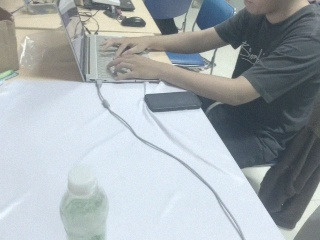bottle: (58, 164, 111, 240)
box: (1, 1, 21, 87)
mouse: (120, 16, 146, 28)
phone: (139, 85, 206, 119)
